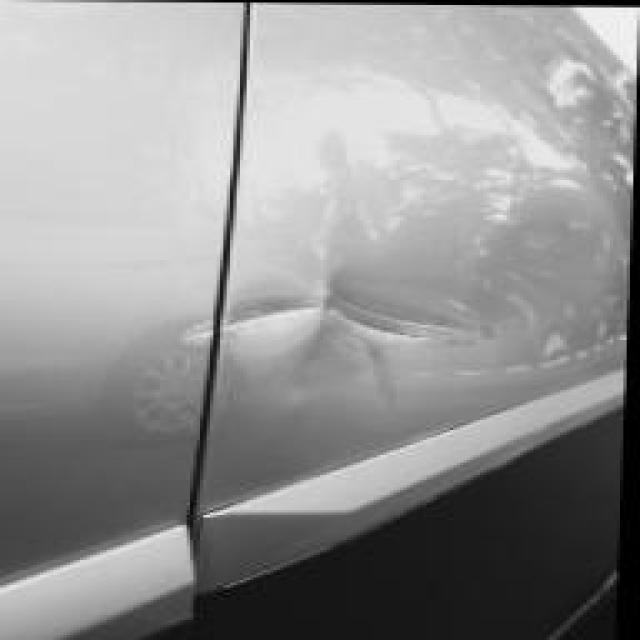Door: (100, 80, 556, 484)
